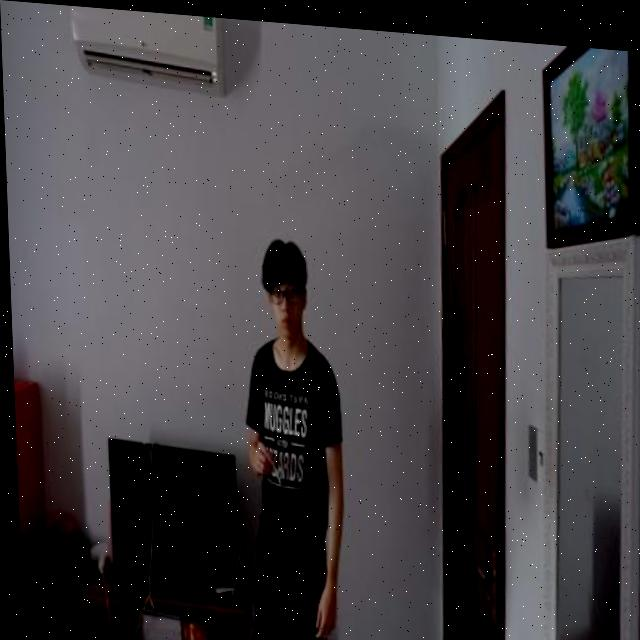cigarette: (270, 460, 278, 480)
